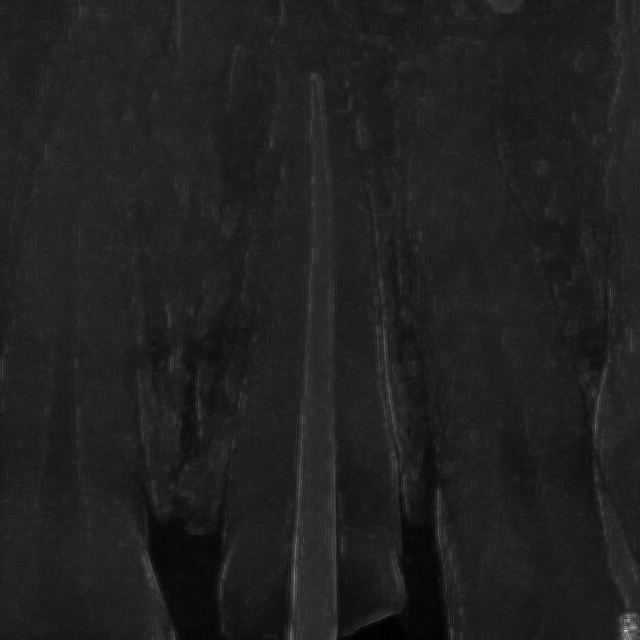Class 0- No endodontic treatment: (163, 46, 459, 582)
